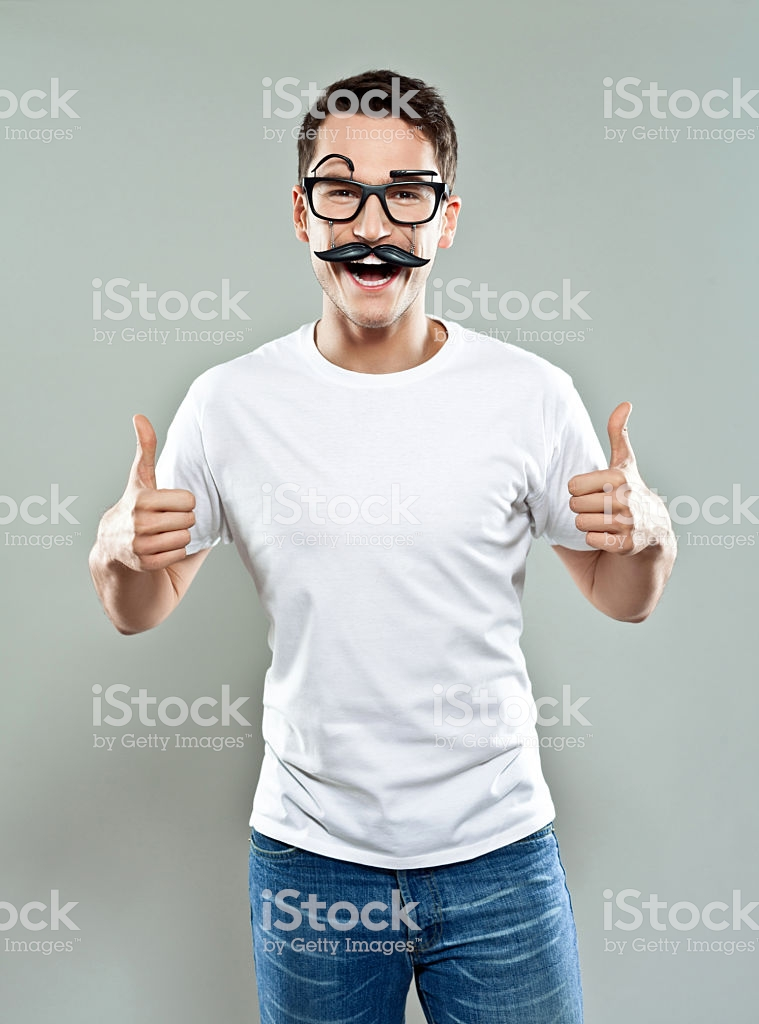thumbsup: (113, 413, 198, 574), (565, 401, 641, 559)
